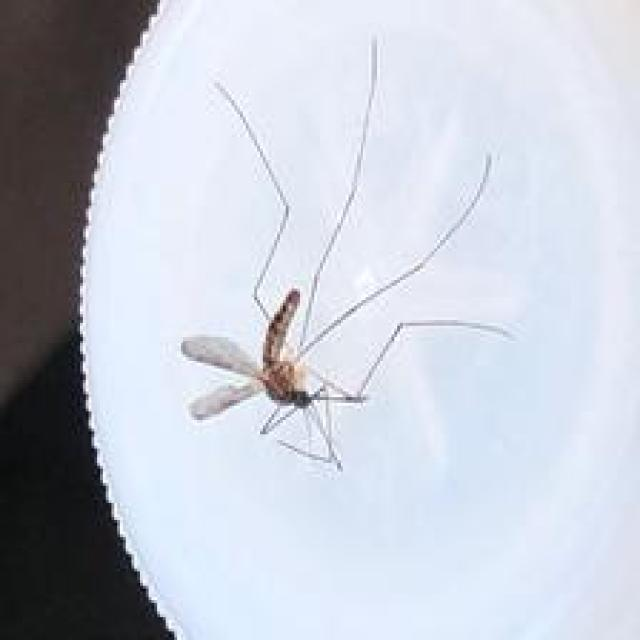Culex: (177, 33, 517, 473)
